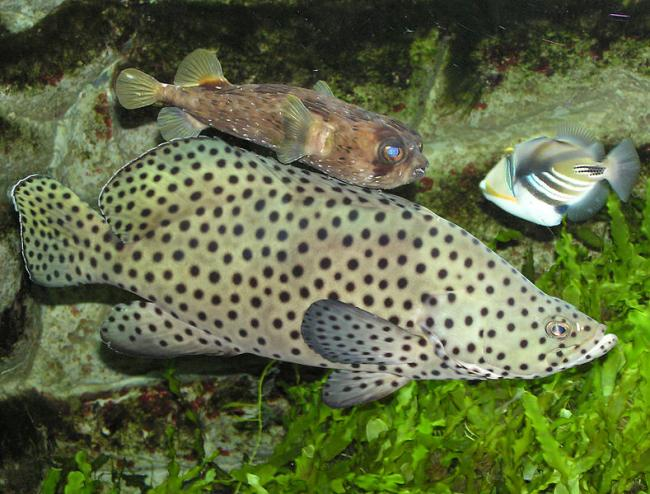fish: (11, 136, 618, 407), (115, 48, 429, 189)
